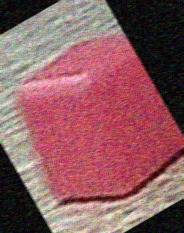red_cube: (9, 32, 184, 200)
